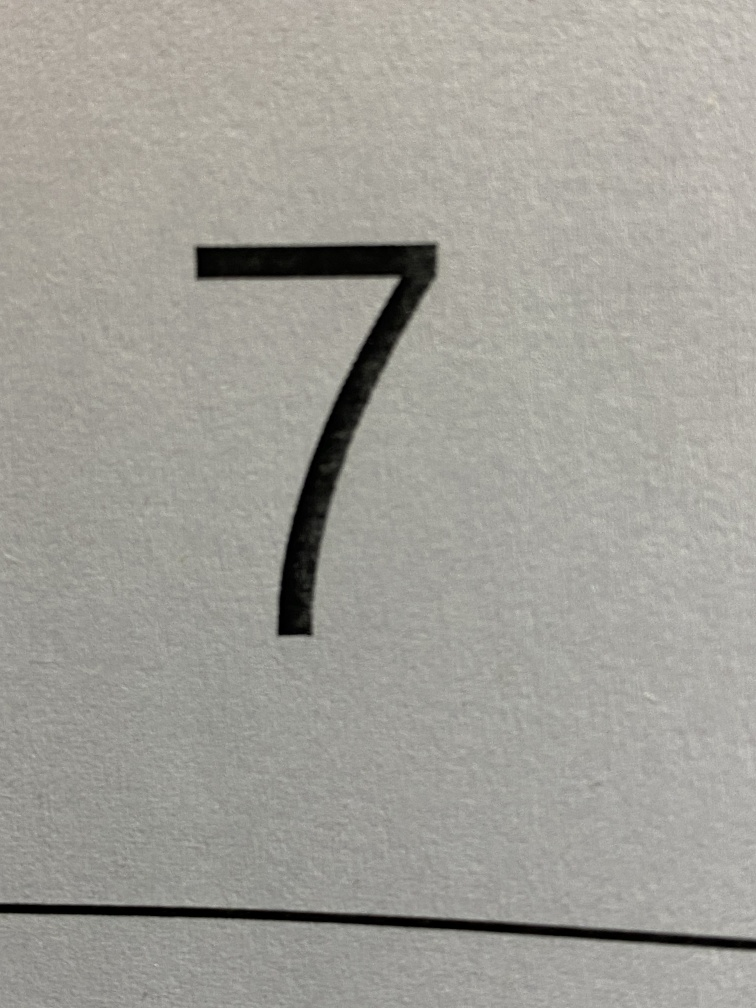seven: (120, 165, 519, 708)
